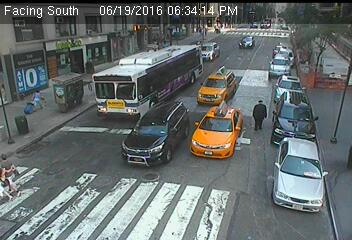neg: (37, 188, 61, 221), (213, 178, 237, 210), (141, 154, 161, 181), (207, 100, 226, 126), (297, 105, 316, 129), (43, 137, 61, 161), (94, 188, 112, 212), (156, 190, 174, 213), (152, 87, 169, 109), (271, 179, 286, 200), (122, 102, 137, 122), (107, 137, 122, 157), (17, 117, 32, 137), (55, 80, 70, 100), (231, 38, 246, 57), (53, 42, 67, 61), (306, 63, 320, 82), (295, 149, 309, 168), (110, 49, 123, 66), (143, 46, 156, 63), (259, 51, 271, 67), (184, 43, 194, 57)
pos: (246, 95, 272, 130), (30, 86, 47, 110)
